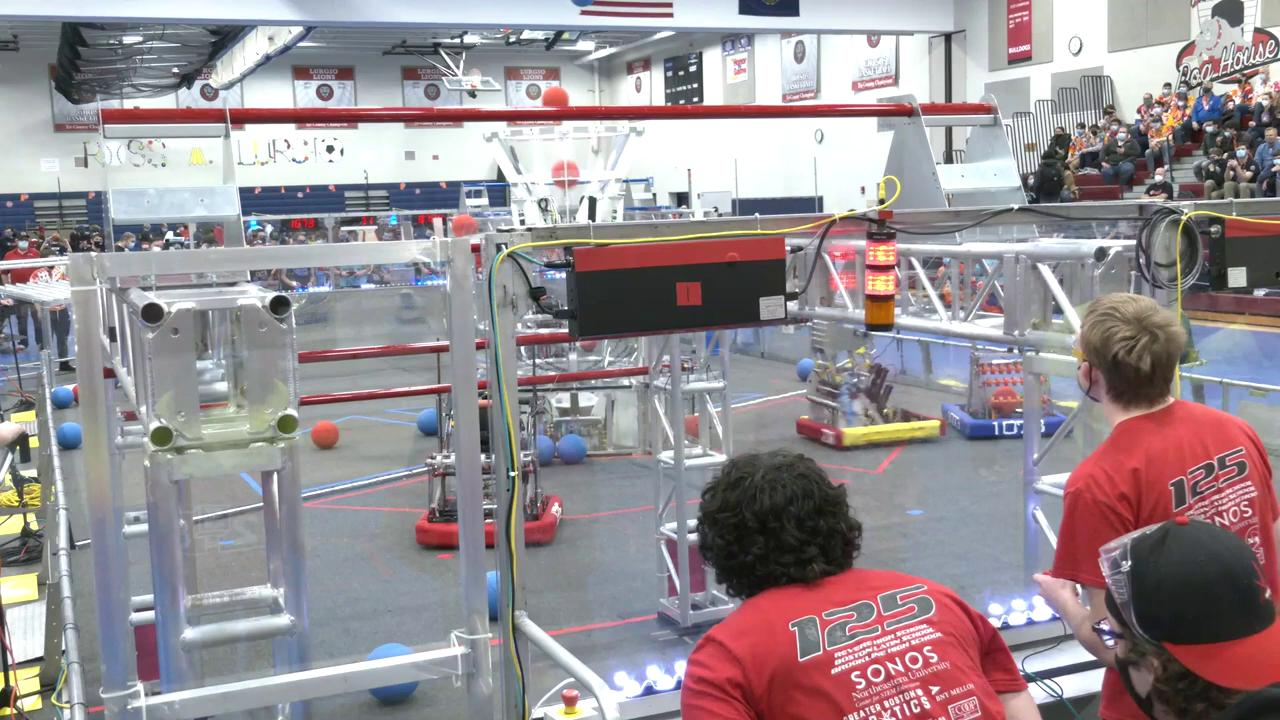robot: (419, 406, 565, 548), (797, 347, 934, 445), (949, 346, 1068, 440)
